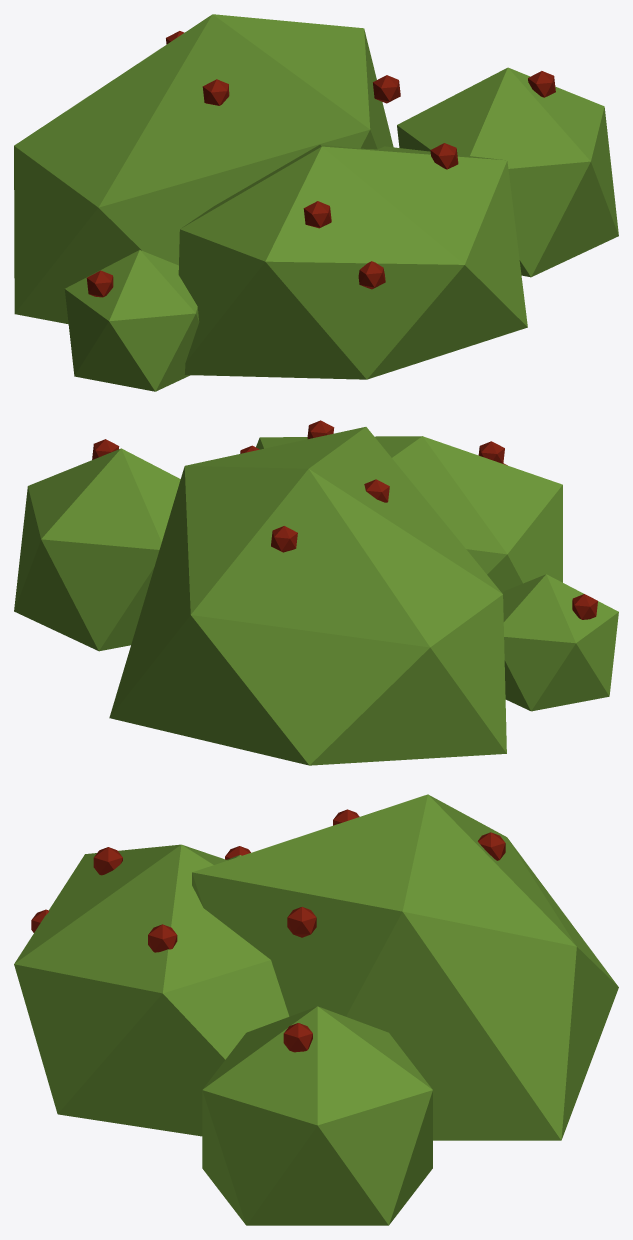
The model's file is SM_Bush_01.fbx.
3 renders of one model, top to bottom at view 1: azimuth 30°, elevation 25°; view 2: azimuth 150°, elevation 25°; view 3: azimuth 270°, elevation 25°, orthographic. The views are drawn at different scales.
Visible parts, largest first — view 1: Bush_01; view 2: Bush_01; view 3: Bush_01.
Part boxes in pixels (x1=…): Bush_01: x1=14, y1=14, x2=618, y2=391; Bush_01: x1=14, y1=420, x2=618, y2=765; Bush_01: x1=14, y1=794, x2=618, y2=1225.
Size of the model in its own units: 3.48 by 1.58 by 2.97.
